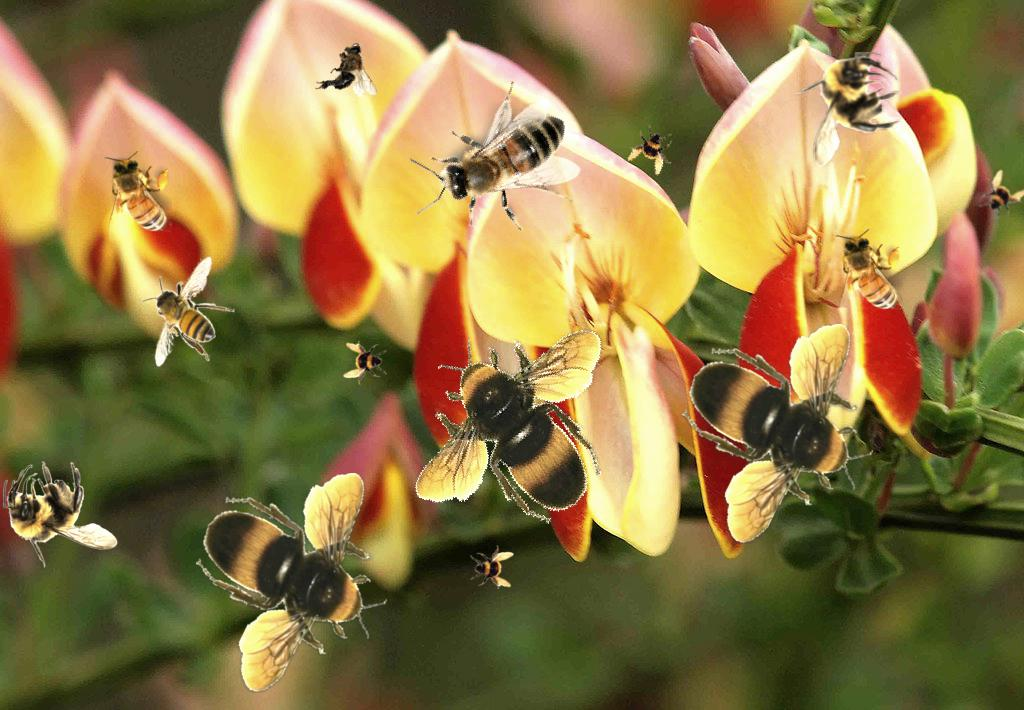Bee: (390, 281, 650, 558), (388, 54, 611, 276), (196, 473, 387, 693), (682, 324, 873, 544), (795, 52, 902, 167), (3, 461, 118, 568), (141, 256, 235, 367), (104, 151, 172, 244), (835, 229, 903, 322), (314, 39, 381, 99), (969, 164, 1024, 226), (624, 121, 682, 179), (470, 545, 514, 589), (343, 341, 387, 385)
